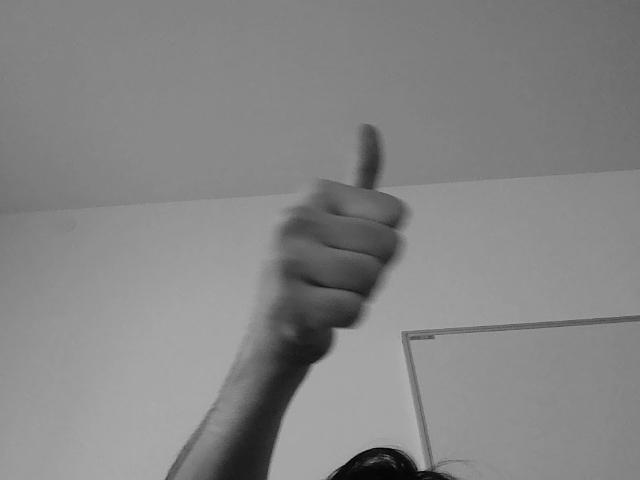friend: (289, 117, 445, 373)
